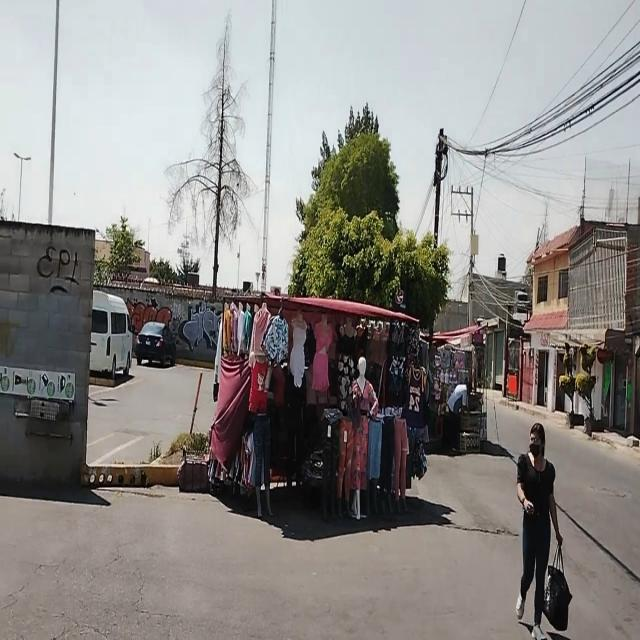adult: (516, 421, 562, 639), (447, 381, 472, 451)
